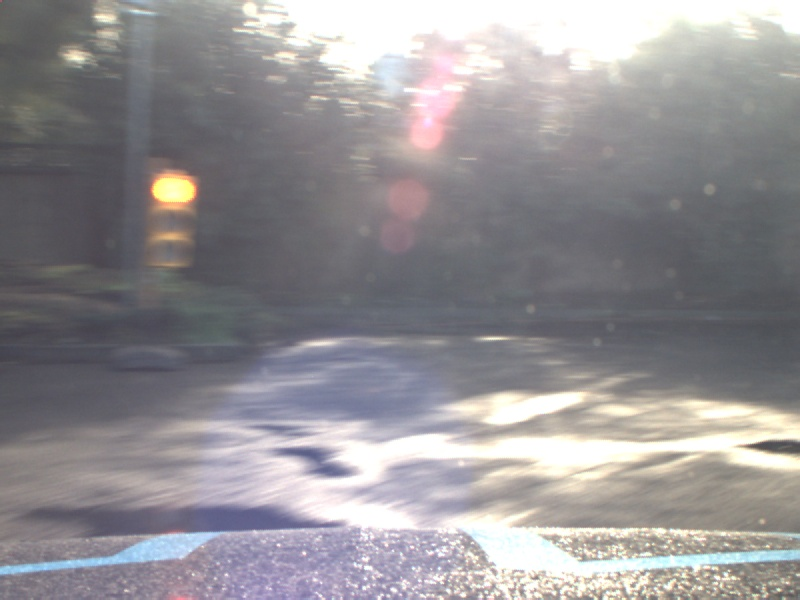Red: (146, 171, 198, 269)
